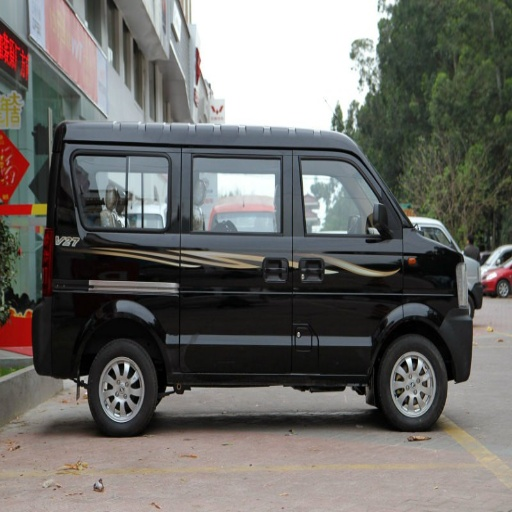trunk: (52, 282, 176, 370), (65, 249, 167, 272)
